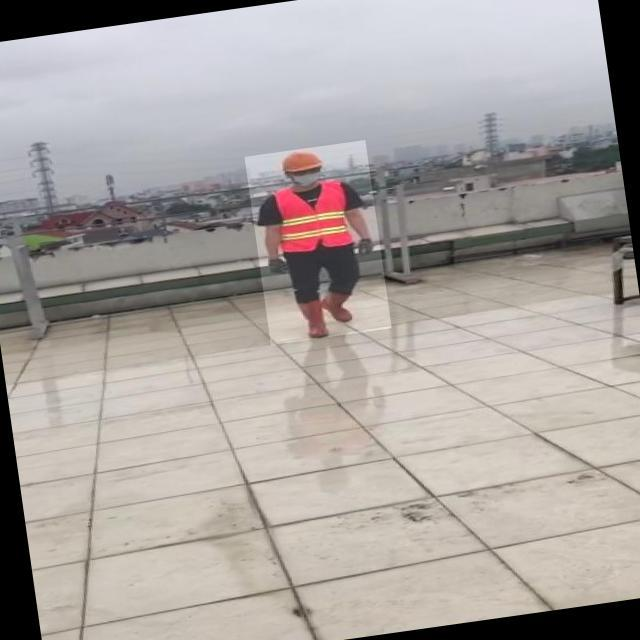Helmet: (279, 146, 326, 175)
Human: (245, 140, 392, 345)
Safety Boot: (318, 285, 358, 325), (293, 300, 327, 342)
Safety Vest: (271, 179, 356, 256)
